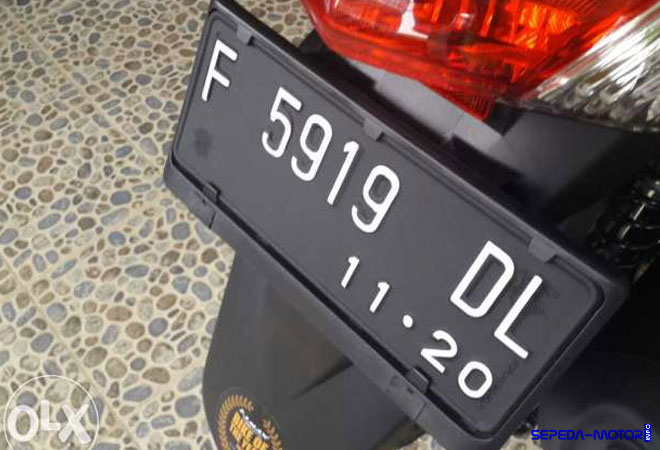plate: (193, 22, 550, 410)
